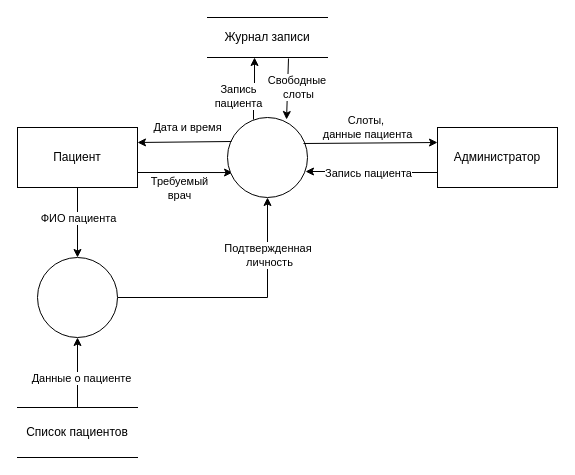
This 575x475 diagram has some shape labels left out. The centre of each missing label's shape, as x and y in pixels:
"Запись на прием" belongs at [267,157].
"Проверка данных" belongs at [77,297].
